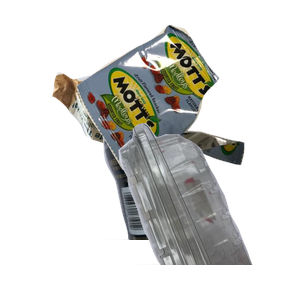cardboard: (50, 62, 228, 226)
glass: (37, 120, 231, 300)
plastic: (71, 120, 300, 300)
trash: (74, 22, 300, 185)
